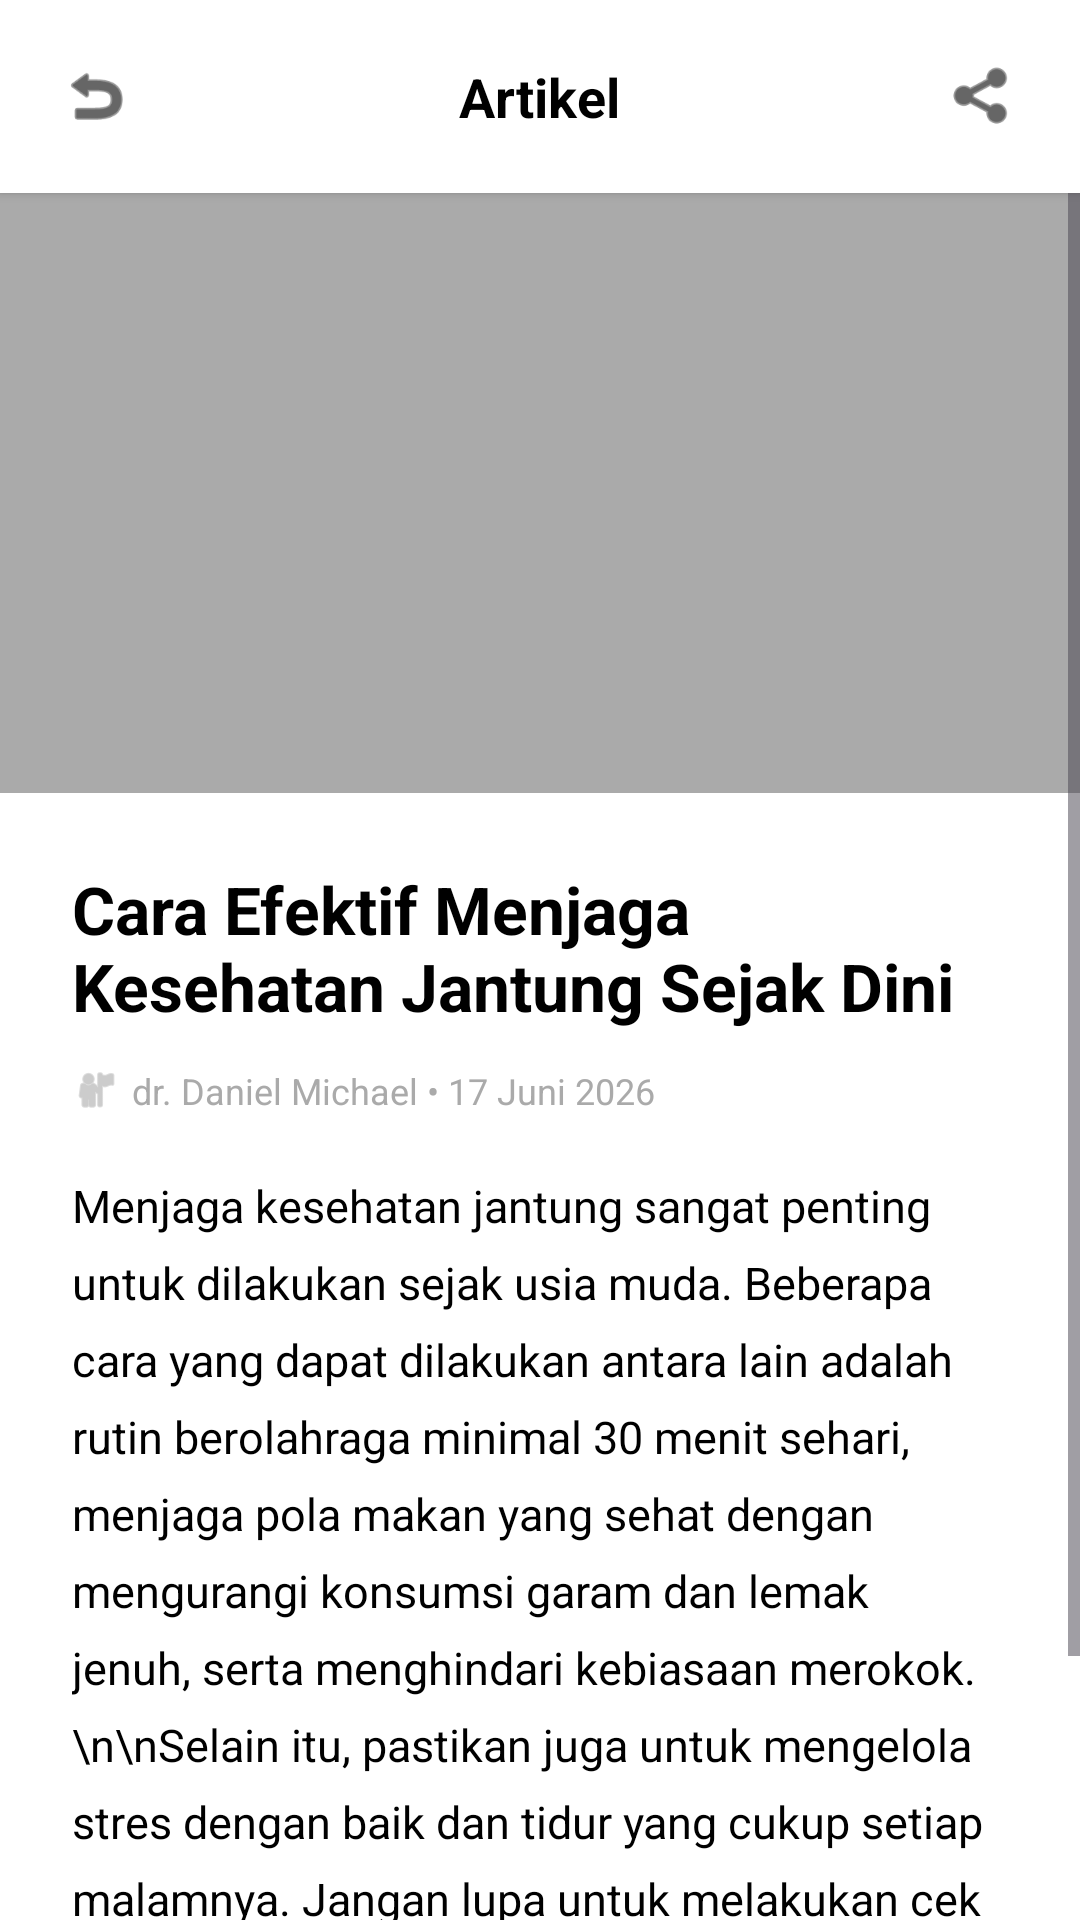

Named icons in this screenshot (1080x1920) and their bounding boxes, box(x1, y1, x2, y2):
revert: box(71, 73, 123, 120)
share: box(953, 67, 1007, 124)
